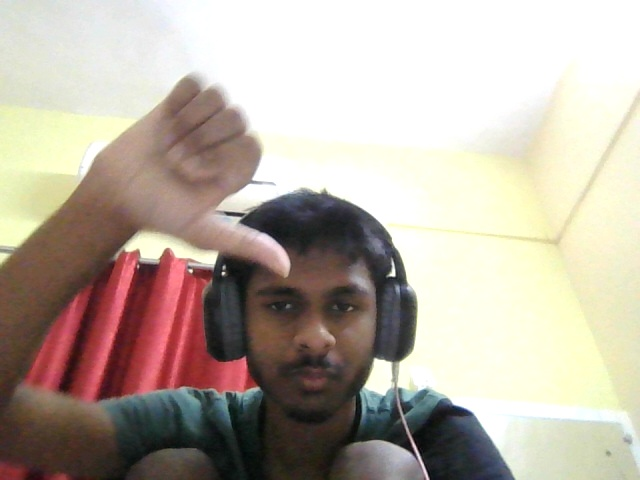ThumbsDown: (83, 71, 289, 275)
